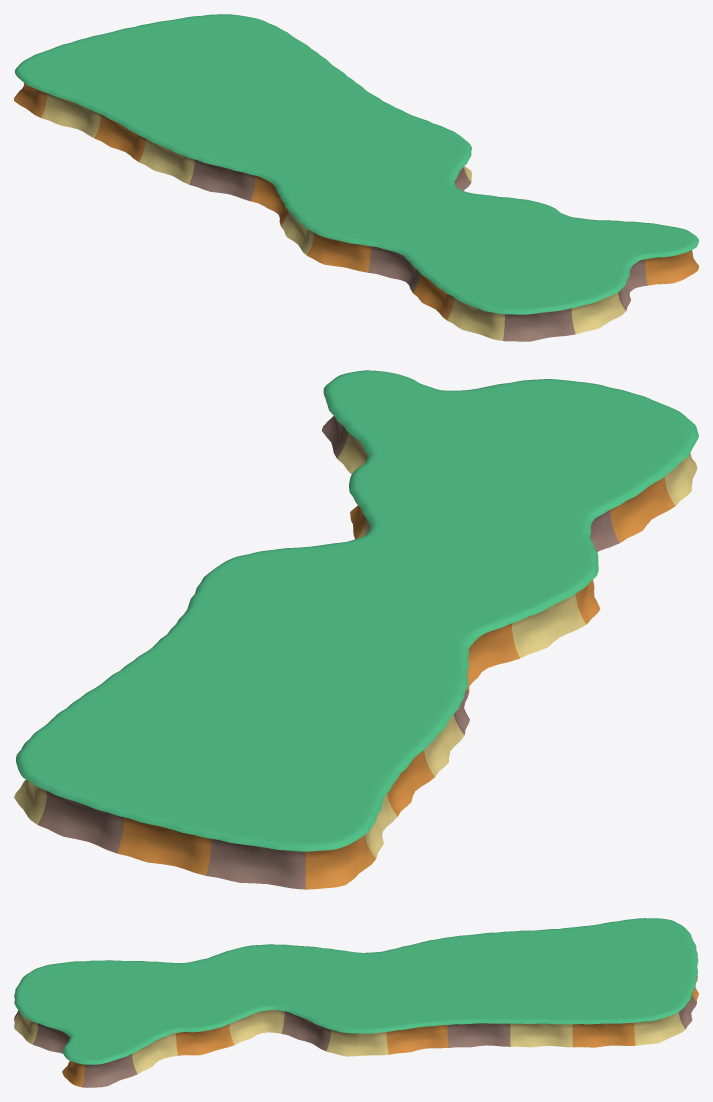
Rendered from Mod_G1_Lm1.fbx.
The picture shows the model from 3 angles, top to bottom: view 1: azimuth 30°, elevation 25°; view 2: azimuth 150°, elevation 25°; view 3: azimuth 270°, elevation 25°; orthographic projection. The views are drawn at different scales.
Visible parts, largest first — view 1: Mod_G1_Lm1; view 2: Mod_G1_Lm1; view 3: Mod_G1_Lm1.
Part boxes in pixels (x1,y1,x2,y2): Mod_G1_Lm1: (14, 14, 698, 341); Mod_G1_Lm1: (14, 370, 698, 889); Mod_G1_Lm1: (14, 918, 698, 1087).
Size of the model in its own units: 5447 by 442 by 10822.
